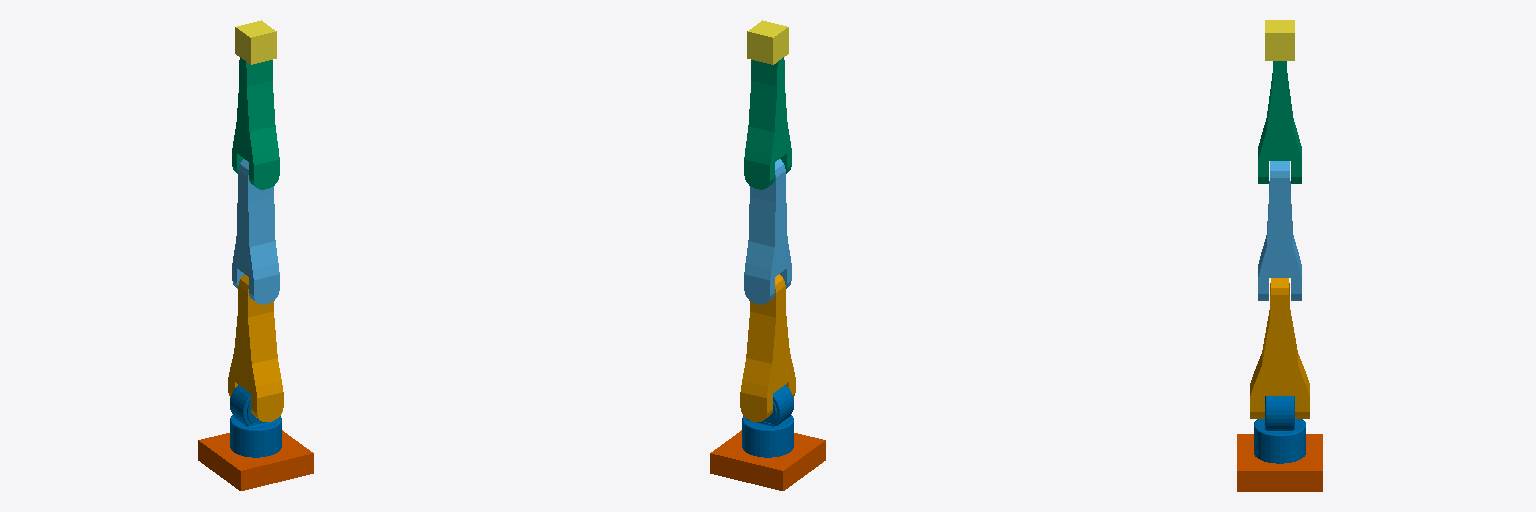
robot.urdf — arm:
<?xml version="1.0"?>
<!-- created with Phobos 1.0.1 "Capricious Choutengan" -->
  <robot name="arm">

    <link name="link_Cube.001">
      <inertial>
        <origin xyz="0 0.19754 0" rpy="0 0 0"/>
        <mass value="2.0"/>
        <inertia ixx="22.80857" ixy="0" ixz="0" iyy="22.22787" iyz="0" izz="1.85655"/>
      </inertial>
      <visual name="Cube.001">
        <origin xyz="0 0.19754 0" rpy="-1.5708 0 0"/>
        <geometry>
          <mesh filename="../meshes/stl/Cube.005.stl" scale="1.0 1.0 1.0"/>
        </geometry>
      </visual>
      <collision name="Cube.001">
        <origin xyz="0 0.4087 0" rpy="-1.5708 0 0"/>
        <geometry>
          <box size="0.2 0.38598 0.71133"/>
        </geometry>
      </collision>
    </link>

    <link name="link_Cube.002">
      <inertial>
        <origin xyz="-0.13968 0 0.13968" rpy="0 0 0"/>
        <mass value="2.0"/>
        <inertia ixx="1.36114" ixy="0" ixz="0" iyy="22.62934" iyz="0" izz="22.73482"/>
      </inertial>
      <visual name="Cube.002">
        <origin xyz="-0.13968 0 0.13968" rpy="0 -0.7854 0"/>
        <geometry>
          <mesh filename="../meshes/stl/Cube.006.stl" scale="1.0 1.0 1.0"/>
        </geometry>
      </visual>
      <collision name="Cube.002">
        <origin xyz="-0.289 0 0.289" rpy="0 -0.7854 0"/>
        <geometry>
          <box size="0.2 0.28711 0.77"/>
        </geometry>
      </collision>
    </link>

    <link name="link_Cube.003">
      <inertial>
        <origin xyz="0 0 0.19754" rpy="0 0 0"/>
        <mass value="2.0"/>
        <inertia ixx="22.2642" ixy="0" ixz="0" iyy="22.22788" iyz="0" izz="1.31219"/>
      </inertial>
      <visual name="Cube.003">
        <origin xyz="0 0 0.19754" rpy="0 0 0"/>
        <geometry>
          <mesh filename="../meshes/stl/Cube.007.stl" scale="1.0 1.0 1.0"/>
        </geometry>
      </visual>
      <collision name="Cube.003">
        <origin xyz="0 0 0.4087" rpy="0 0 0"/>
        <geometry>
          <box size="0.2 0.28711 0.76655"/>
        </geometry>
      </collision>
    </link>

    <link name="link_Cube.004">
      <inertial>
        <origin xyz="0 0 0" rpy="0 0 0"/>
        <mass value="0.001"/>
        <inertia ixx="0.00067" ixy="0" ixz="0" iyy="0.00067" iyz="0" izz="0.00067"/>
      </inertial>
      <visual name="Cube.004">
        <origin xyz="0 0 0" rpy="0 0 0"/>
        <geometry>
          <box size="0.2 0.2 0.2"/>
        </geometry>
      </visual>
      <collision name="Cube.004">
        <origin xyz="0 0 0" rpy="0 0 0"/>
        <geometry>
          <box size="0.2 0.2 0.2"/>
        </geometry>
      </collision>
    </link>

    <link name="link_Cylinder">
      <inertial>
        <origin xyz="0 0 0" rpy="0 0 0"/>
        <mass value="2.0"/>
        <inertia ixx="6.82579" ixy="0" ixz="0" iyy="7.14052" iyz="0" izz="2.58493"/>
      </inertial>
      <visual name="Cylinder">
        <origin xyz="0 0 0" rpy="0 0 0"/>
        <geometry>
          <mesh filename="../meshes/stl/Cylinder.stl" scale="1.0 1.0 1.0"/>
        </geometry>
      </visual>
      <collision name="Cylinder">
        <origin xyz="0 0 0.12952" rpy="0 0 0"/>
        <geometry>
          <box size="0.34463 0.34463 0.47425"/>
        </geometry>
      </collision>
    </link>

    <link name="link_base">
      <inertial>
        <origin xyz="0 0 0" rpy="0 0 0"/>
        <mass value="50.0"/>
        <inertia ixx="140.85948" ixy="0" ixz="0" iyy="140.85948" iyz="0" izz="262.95758"/>
      </inertial>
      <visual name="Cube">
        <origin xyz="0 0 0" rpy="0 0 0"/>
        <geometry>
          <mesh filename="../meshes/stl/Cube.004.stl" scale="1.0 1.0 1.0"/>
        </geometry>
      </visual>
      <collision name="Cube">
        <origin xyz="0 0 0" rpy="0 0 0"/>
        <geometry>
          <box size="0.56174 0.56174 0.15005"/>
        </geometry>
      </collision>
    </link>

    <joint name="link_Cube.001" type="revolute">
      <origin xyz="0 0 0.26166" rpy="1.5708 0 0"/>
      <parent link="link_Cylinder"/>
      <child link="link_Cube.001"/>
      <axis xyz="0 0 1.0"/>
      <limit lower="-3.14" upper="3.14" effort="15.0" velocity="3.0"/>
    </joint>

    <joint name="link_Cube.002" type="revolute">
      <origin xyz="0 0.84553 0" rpy="-1.5708 0 -0.7854"/>
      <parent link="link_Cube.001"/>
      <child link="link_Cube.002"/>
      <axis xyz="0 -1.0 0"/>
      <limit lower="-3.14" upper="3.14" effort="15.0" velocity="3.0"/>
    </joint>

    <joint name="link_Cube.003" type="revolute">
      <origin xyz="-0.5968 0 0.5968" rpy="0 -0.7854 0"/>
      <parent link="link_Cube.002"/>
      <child link="link_Cube.003"/>
      <axis xyz="0 -1.0 0"/>
      <limit lower="-3.14" upper="3.14" effort="15.0" velocity="3.0"/>
    </joint>

    <joint name="link_Cube.004" type="revolute">
      <origin xyz="0 0 0.91888" rpy="0 0 0"/>
      <parent link="link_Cube.003"/>
      <child link="link_Cube.004"/>
      <axis xyz="0 0 1.0"/>
      <limit lower="-3.14" upper="3.14" effort="0" velocity="0"/>
    </joint>

    <joint name="link_Cylinder" type="revolute">
      <origin xyz="0 0 0.17189" rpy="0 0 0"/>
      <parent link="link_base"/>
      <child link="link_Cylinder"/>
      <axis xyz="0 0 1.0"/>
      <limit lower="-3.14" upper="3.14" effort="15.0" velocity="3.0"/>
    </joint>

  </robot>

--- Render facts (derived) ---
Views: 3 orthographic renders of the robot side by side, from view 1: azimuth 30°, elevation 25°; view 2: azimuth 150°, elevation 25°; view 3: azimuth 270°, elevation 25°.
Robot: arm — 6 links, 5 joints (5 revolute); root link link_base; default pose: every joint at zero.
Links seen in each view (by area): view 1: link_Cube.001, link_Cube.002, link_Cube.003, link_base, link_Cylinder, link_Cube.004; view 2: link_Cube.001, link_Cube.002, link_Cube.003, link_base, link_Cylinder, link_Cube.004; view 3: link_Cube.001, link_Cube.002, link_base, link_Cube.003, link_Cylinder, link_Cube.004.
Link boxes in pixels (left/top/right/bottom): link_Cube.001: left=228, top=274, right=283, bottom=421; link_Cube.002: left=232, top=159, right=279, bottom=304; link_Cube.003: left=232, top=57, right=279, bottom=189; link_base: left=198, top=430, right=313, bottom=490; link_Cylinder: left=230, top=385, right=281, bottom=457; link_Cube.004: left=235, top=20, right=276, bottom=64; link_Cube.001: left=740, top=274, right=795, bottom=421; link_Cube.002: left=744, top=159, right=791, bottom=304; link_Cube.003: left=744, top=57, right=791, bottom=189; link_base: left=710, top=430, right=825, bottom=490; link_Cylinder: left=742, top=385, right=793, bottom=457; link_Cube.004: left=747, top=20, right=788, bottom=64; link_Cube.001: left=1250, top=278, right=1309, bottom=418; link_Cube.002: left=1258, top=161, right=1301, bottom=300; link_base: left=1237, top=434, right=1322, bottom=491; link_Cube.003: left=1258, top=61, right=1301, bottom=183; link_Cylinder: left=1254, top=396, right=1305, bottom=463; link_Cube.004: left=1265, top=20, right=1294, bottom=60.
Size in the robot's own frame: 0.5617 by 0.5617 by 3.22 metres.
5 mesh visuals loaded from 5 distinct referenced files (5 binary STL).